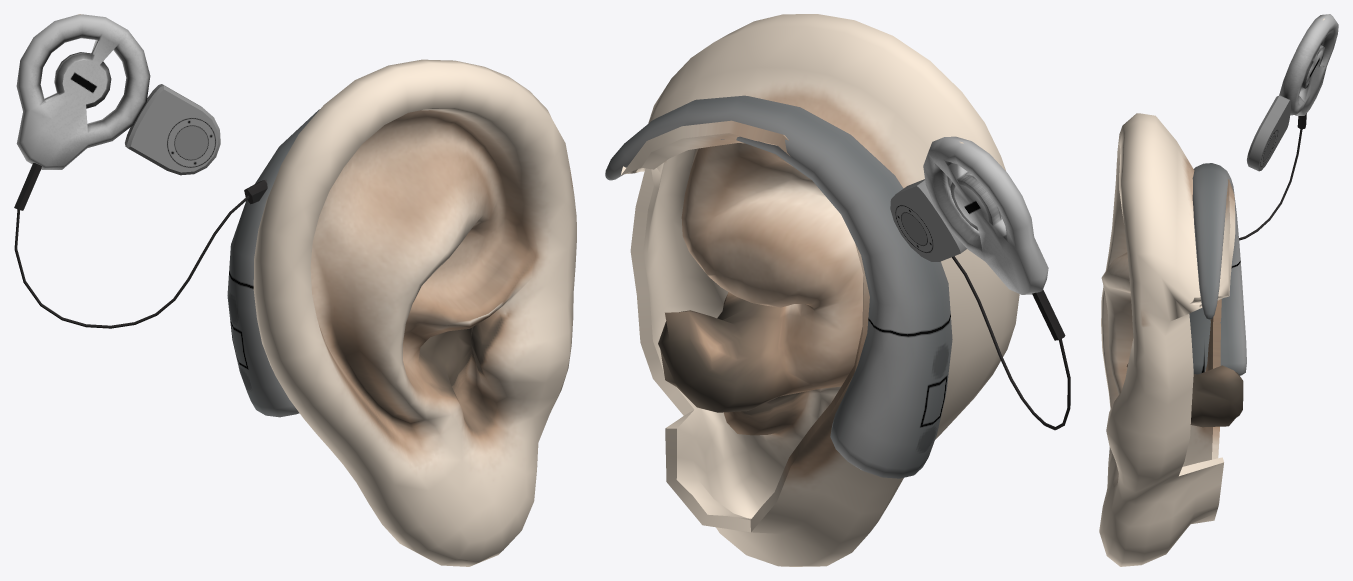
Rendered from bio_ear.dae.
The picture shows the model from 3 angles, left to right: view 1: azimuth 30°, elevation 25°; view 2: azimuth 150°, elevation 25°; view 3: azimuth 270°, elevation 25°; orthographic projection. The views are drawn at different scales.
Visible parts, largest first — view 1: polySurface9; view 2: polySurface9; view 3: polySurface9.
Boxes of the visible parts, x1,y1,x2,y2 form: polySurface9: [14, 14, 576, 566]; polySurface9: [605, 14, 1070, 566]; polySurface9: [1099, 14, 1338, 566].
Bounding box in the file's own units: 16.53 × 17.71 × 8.87.
Materials: 1 (1 with a texture image).
